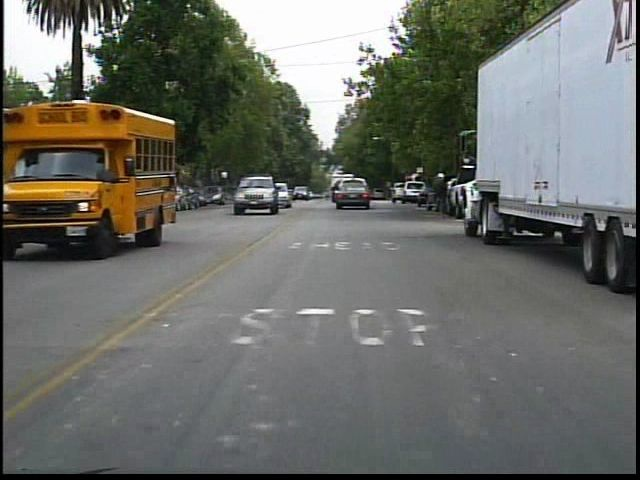person: (429, 170, 453, 220)
